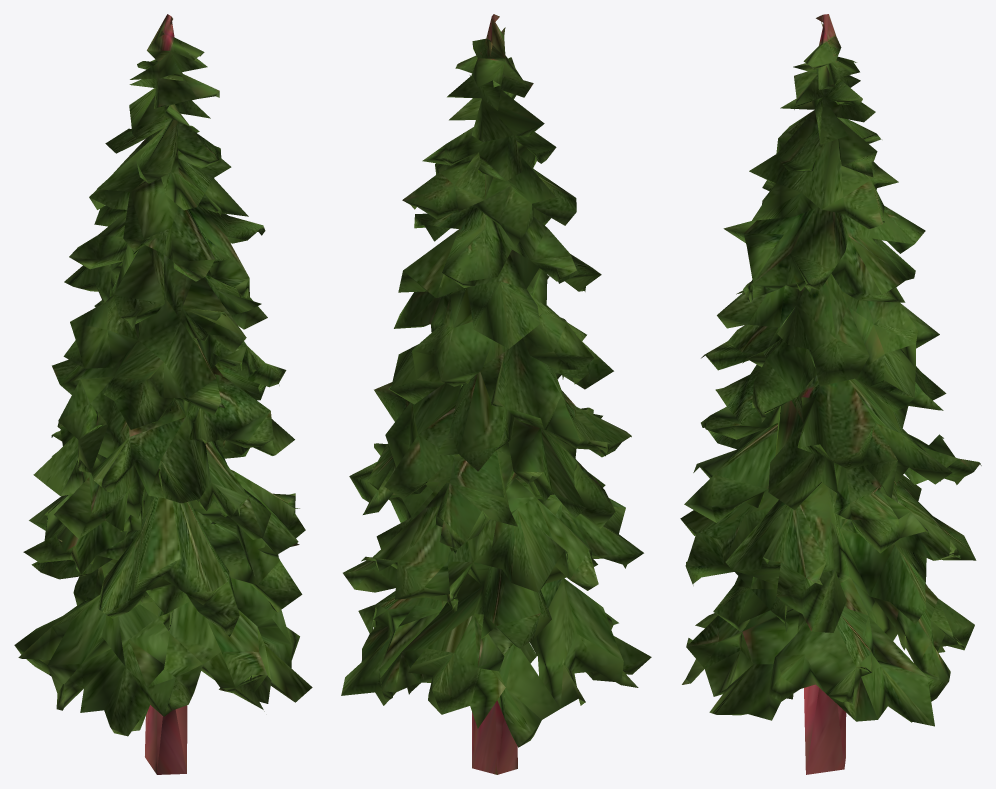
File: fir.glb
3 views of the same model, side by side, from view 1: azimuth 30°, elevation 25°; view 2: azimuth 150°, elevation 25°; view 3: azimuth 270°, elevation 25° (orthographic).
Parts seen in each view (by area): view 1: Mesh_0; view 2: Mesh_0; view 3: Mesh_0.
Boxes of the visible parts, box(x1,y1,x2,y2) form: Mesh_0: box(14, 14, 312, 774); Mesh_0: box(341, 14, 651, 774); Mesh_0: box(680, 14, 981, 774).
Bounding box in the file's own units: 0.6358 × 1.8 × 0.6506.
Materials: 1 (1 with a texture image).
